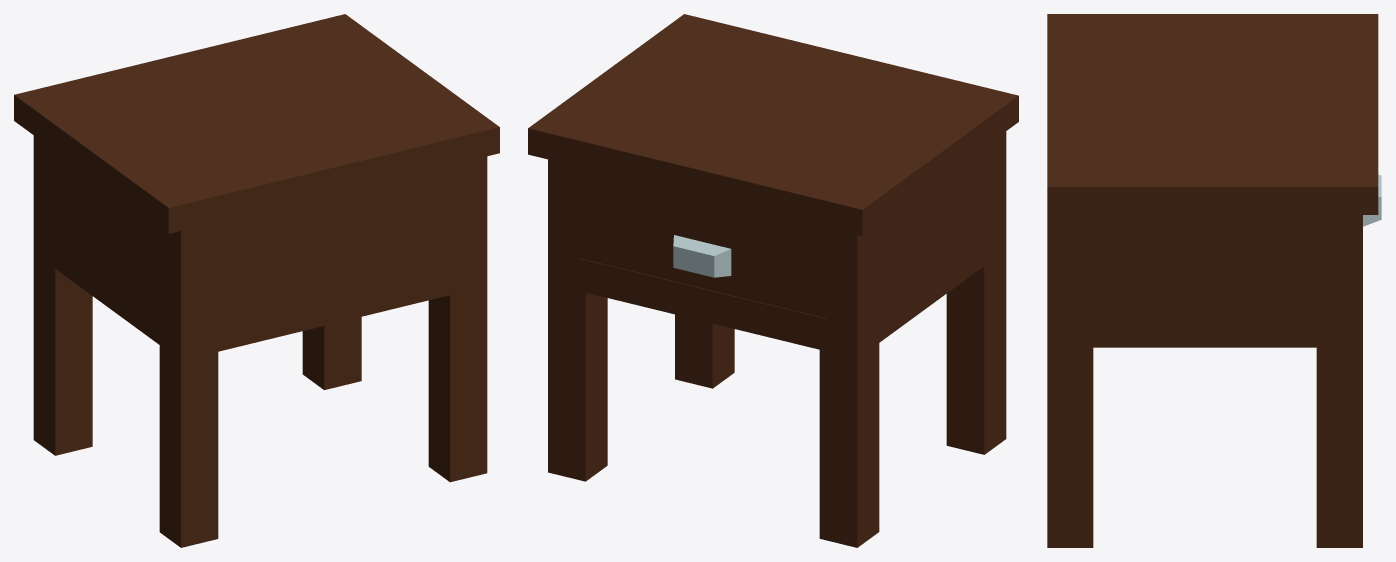
The model's file is cabinet3.glb.
3 views of the same model, side by side, from view 1: azimuth 30°, elevation 25°; view 2: azimuth 150°, elevation 25°; view 3: azimuth 270°, elevation 25° (orthographic). The views are drawn at different scales.
Parts seen in each view (by area): view 1: cabinetBedDrawerTable; view 2: cabinetBedDrawerTable, drawer; view 3: cabinetBedDrawerTable.
Boxes of the visible parts, left/top/right/bottom form: cabinetBedDrawerTable: left=14, top=14, right=499, bottom=547; cabinetBedDrawerTable: left=528, top=14, right=1018, bottom=547; drawer: left=579, top=192, right=826, bottom=318; cabinetBedDrawerTable: left=1047, top=14, right=1378, bottom=547.
Size of the model in its own units: 0.266 by 0.2632 by 0.2173.
